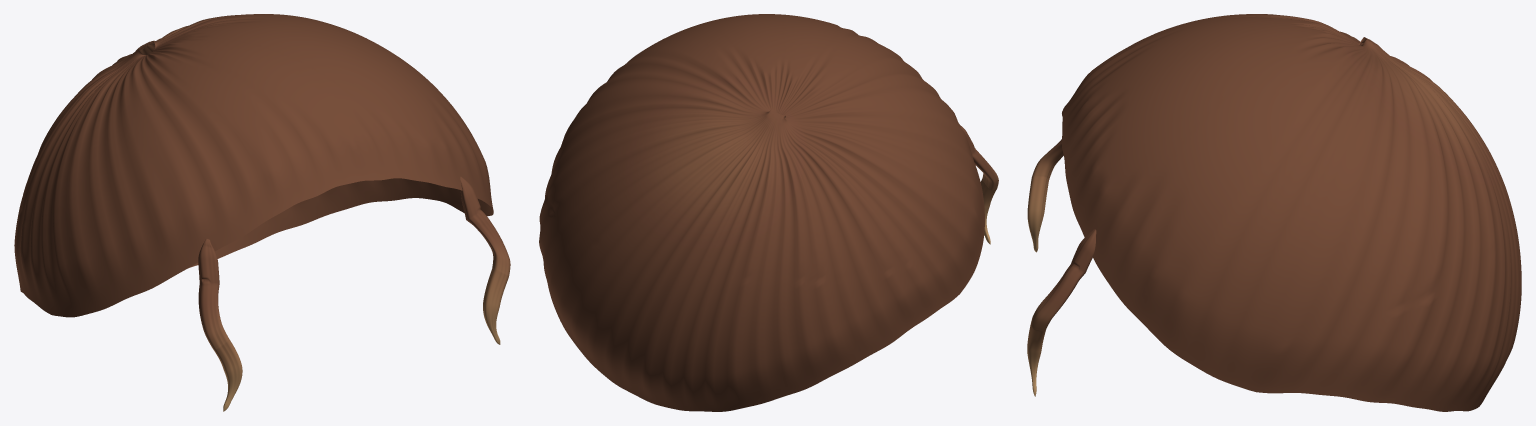
File: ponytail-beanie-fringe-ombre.glb
3 renders of one model, left to right at view 1: azimuth 30°, elevation 25°; view 2: azimuth 150°, elevation 25°; view 3: azimuth 270°, elevation 25°, orthographic. The views are drawn at different scales.
Visible parts, largest first — view 1: 226 hair / Hair / crisp pulled roots220.002, 226 hair / Hair / sculpted front locks222.002; view 2: 226 hair / Hair / crisp pulled roots220.002, 226 hair / Hair / sculpted front locks222.002; view 3: 226 hair / Hair / crisp pulled roots220.002, 226 hair / Hair / sculpted front locks222.002.
Boxes of the visible parts, x1,y1,x2,y2 form: 226 hair / Hair / crisp pulled roots220.002: (14, 14, 493, 317); 226 hair / Hair / sculpted front locks222.002: (198, 176, 510, 411); 226 hair / Hair / crisp pulled roots220.002: (539, 14, 984, 411); 226 hair / Hair / sculpted front locks222.002: (959, 124, 998, 244); 226 hair / Hair / crisp pulled roots220.002: (1061, 14, 1521, 411); 226 hair / Hair / sculpted front locks222.002: (1027, 139, 1096, 396).
Size of the model in its own units: 0.7726 by 0.5697 by 0.7364.
Materials: 2 (2 with a texture image).
